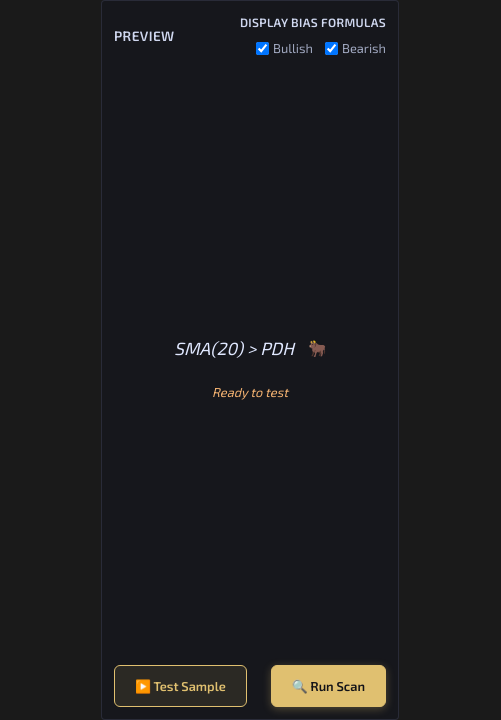
Test case: PreviewSection Component - Error Handling › Scan Button Error Handling (handleFullScan) › shows validation error when formulaState has no completed formulas
The width and height of the screenshot is (501, 720).
Step 1. Click the button "🔍 Run Scan" → (328, 686), box [271,665,386,707]
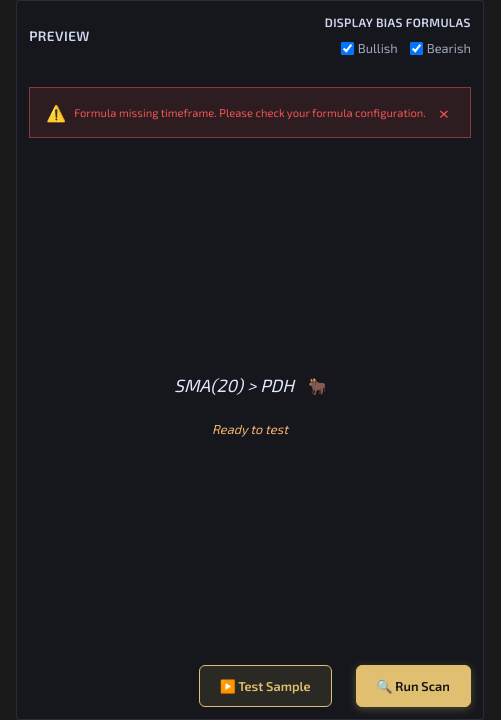
Expected: the text "Formula missing timeframe. Please check your formula configuration." is shown, [74,105,426,120]
